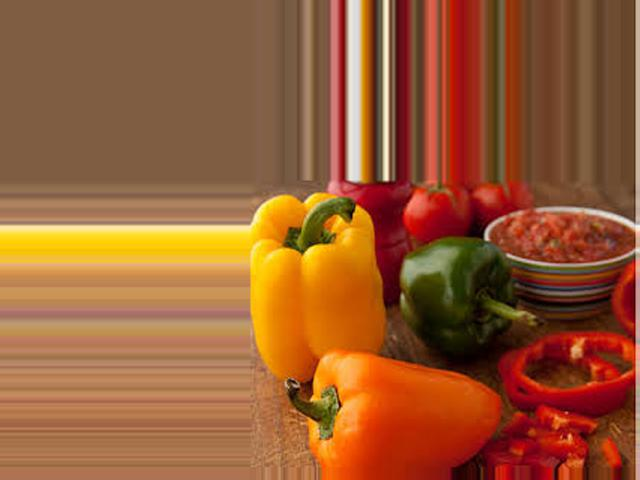bell_pepper: (250, 194, 387, 346)
